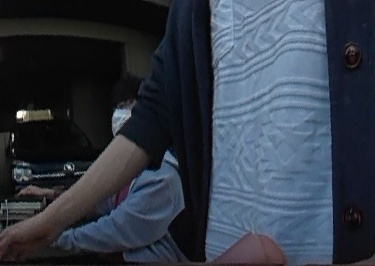person: (49, 70, 193, 266)
